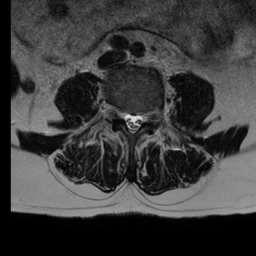CCS_normal: (129, 103, 135, 141)
LFS_normal: (143, 100, 152, 129)
LLS_normal: (135, 105, 143, 134)
RFS_normal: (114, 98, 122, 129)
RLS_normal: (122, 103, 129, 135)
